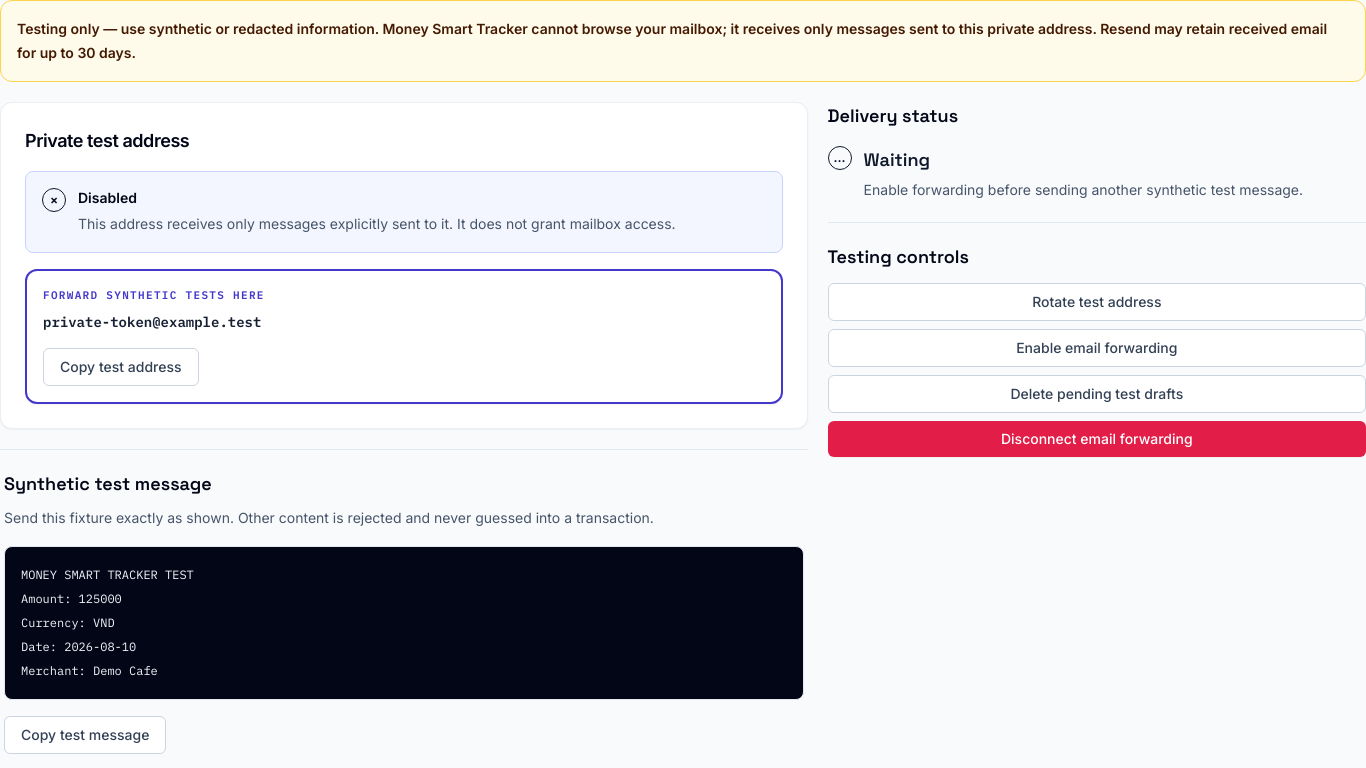
Scenario: EmailSetupPanel confirmations › describes delete-pending without changing DISABLED forwarding
The image size is (1366, 768).
Click the button "Delete pending test drafts" at [1097, 394], box top-left (828, 375), bottom-right (1365, 413)
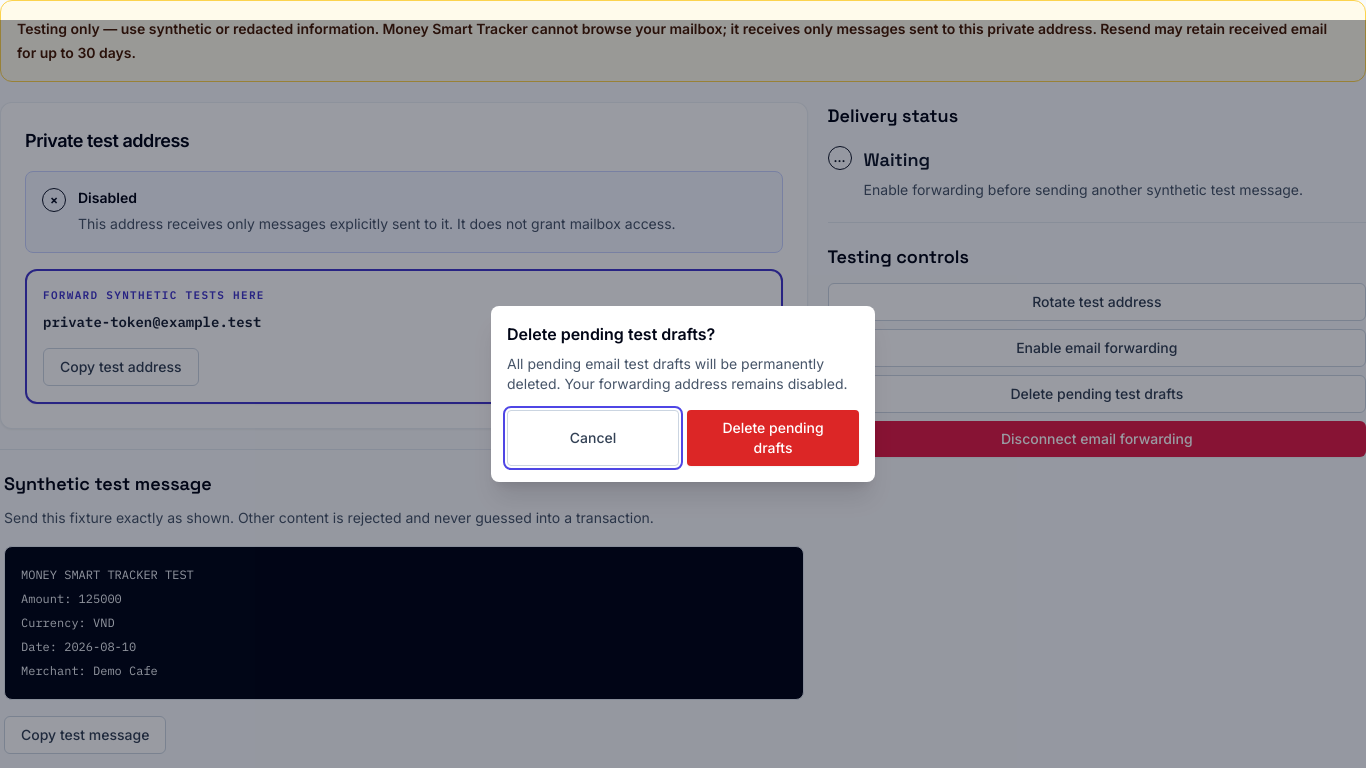
Expected: the dialog "Delete pending test drafts?" does not show "private-token@example.test"
Now the text "All pending email test drafts will be permanently deleted. Your forwarding address remains disabled." is shown, box top-left (507, 355), bottom-right (848, 392)
